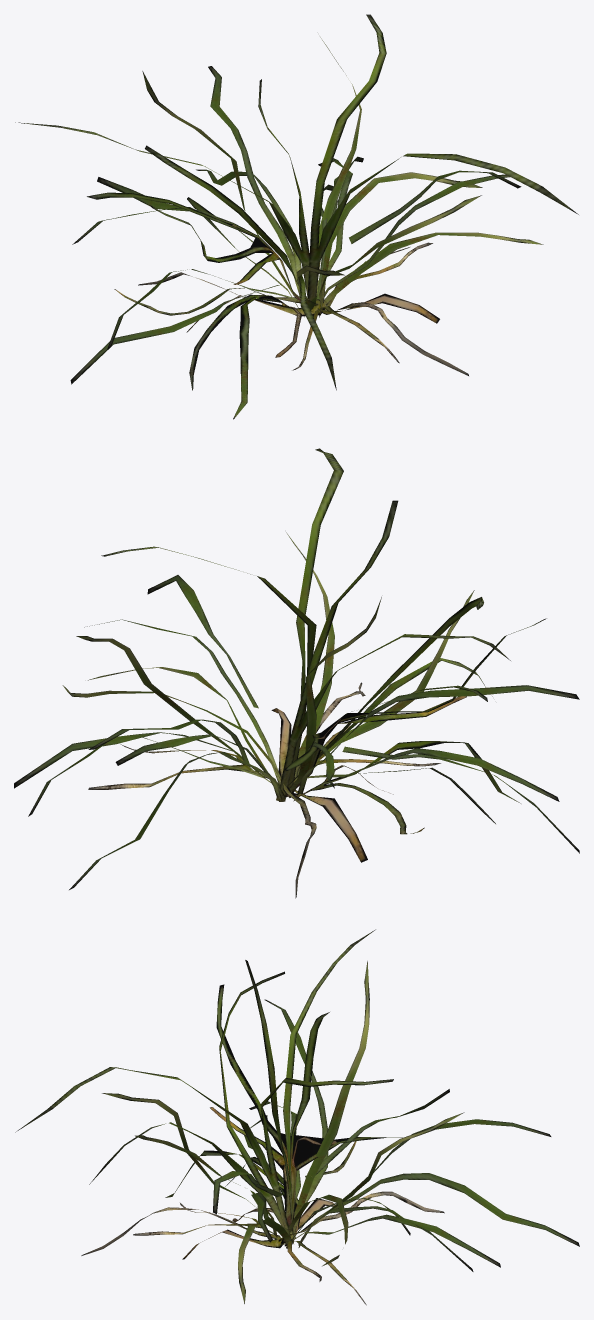
Rendered from grass_patch_small_b.glb.
3 renders of one model, top to bottom at view 1: azimuth 30°, elevation 25°; view 2: azimuth 150°, elevation 25°; view 3: azimuth 270°, elevation 25°, orthographic. The views are drawn at different scales.
Parts seen in each view (by area): view 1: grass_medium_01_small_b_LOD0; view 2: grass_medium_01_small_b_LOD0; view 3: grass_medium_01_small_b_LOD0.
Boxes of the visible parts, <box> form: grass_medium_01_small_b_LOD0: <box>15,14,578,419</box>; grass_medium_01_small_b_LOD0: <box>14,448,579,898</box>; grass_medium_01_small_b_LOD0: <box>15,929,579,1305</box>.
Size of the model in its own units: 0.166 by 0.0999 by 0.1899.
Materials: 1 (1 with a texture image).
